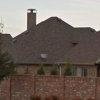Chimney: (20, 3, 44, 32)
